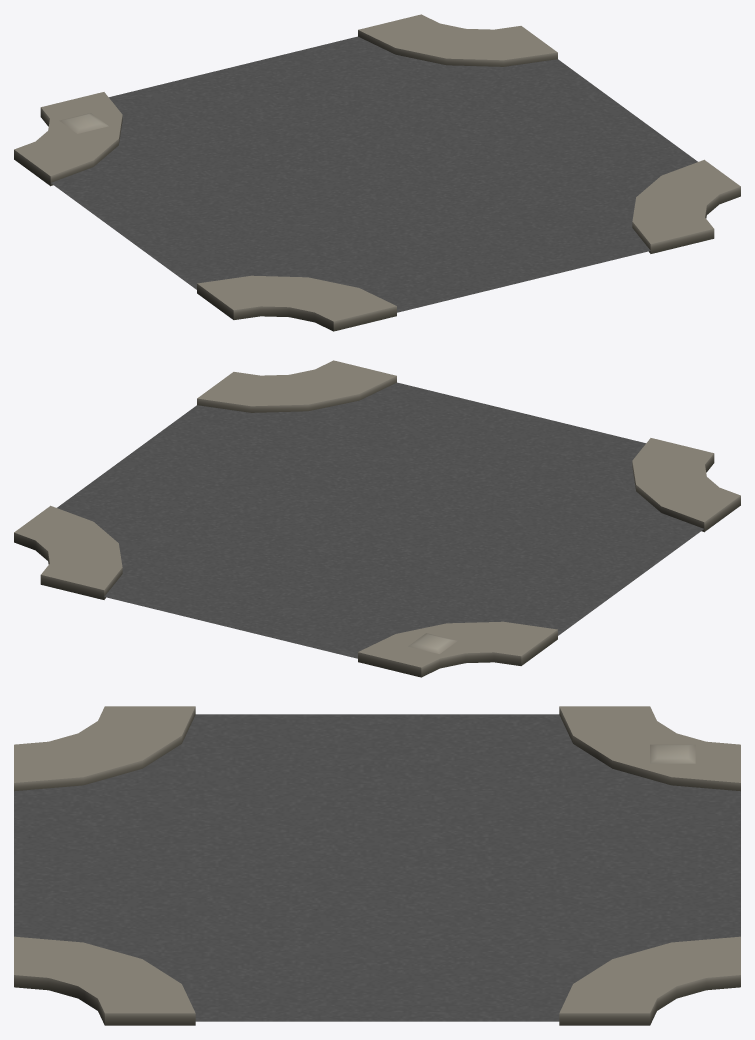
Rendered from Road6.fbx.
3 renders of one model, top to bottom at view 1: azimuth 30°, elevation 25°; view 2: azimuth 150°, elevation 25°; view 3: azimuth 270°, elevation 25°, orthographic. The views are drawn at different scales.
Parts seen in each view (by area): view 1: Road_1G; view 2: Road_1G; view 3: Road_1G.
Boxes of the visible parts, <box> form: Road_1G: <box>14,14,740,331</box>; Road_1G: <box>14,360,740,677</box>; Road_1G: <box>14,706,740,1025</box>.
Bounding box in the file's own units: 29898 × 666 × 29898.
